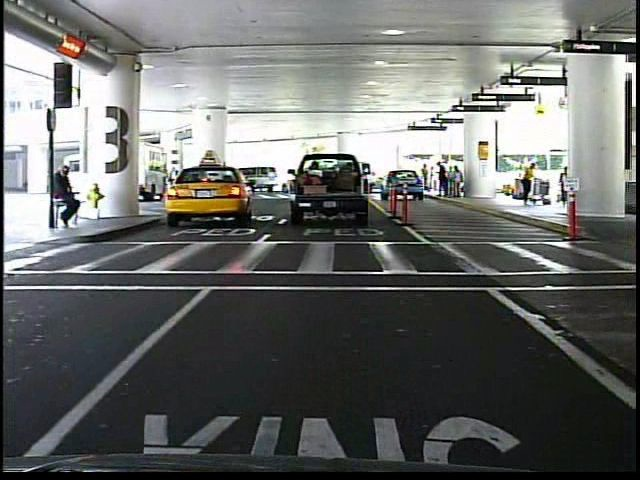person: (54, 160, 86, 231), (519, 158, 541, 210), (558, 159, 573, 211), (421, 161, 433, 196)
